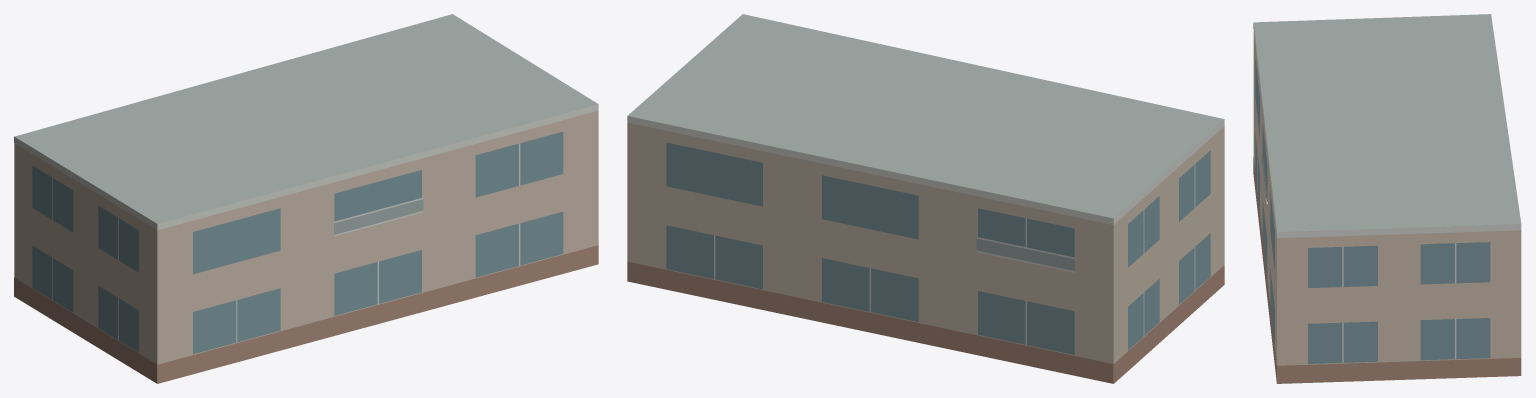
File: survey-upis-32607855.glb
3 views of the same model, side by side, from view 1: azimuth 30°, elevation 25°; view 2: azimuth 150°, elevation 25°; view 3: azimuth 270°, elevation 25° (orthographic). The views are drawn at different scales.
Visible parts, largest first — view 1: survey-upis-32607855.tmp; view 2: survey-upis-32607855.tmp; view 3: survey-upis-32607855.tmp.
Part boxes in pixels (x1,y1,x2,y2): survey-upis-32607855.tmp: (14, 14, 598, 383); survey-upis-32607855.tmp: (627, 14, 1224, 383); survey-upis-32607855.tmp: (1253, 14, 1521, 383).
Bounding box in the file's own units: 18.82 × 6.1 × 9.77.
